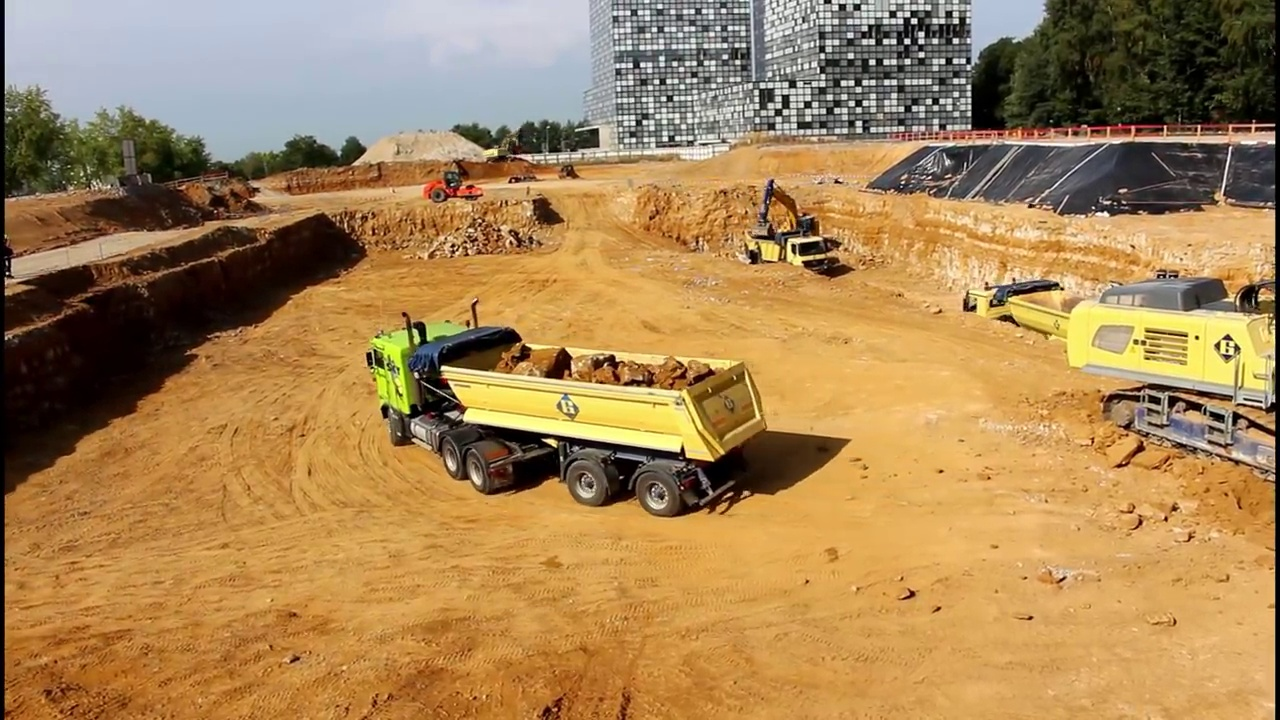compactor: (423, 167, 488, 205), (482, 133, 531, 167)
excavator: (1058, 267, 1280, 481), (751, 174, 838, 265)
truck: (362, 292, 772, 520), (958, 272, 1157, 392), (747, 227, 834, 288)
